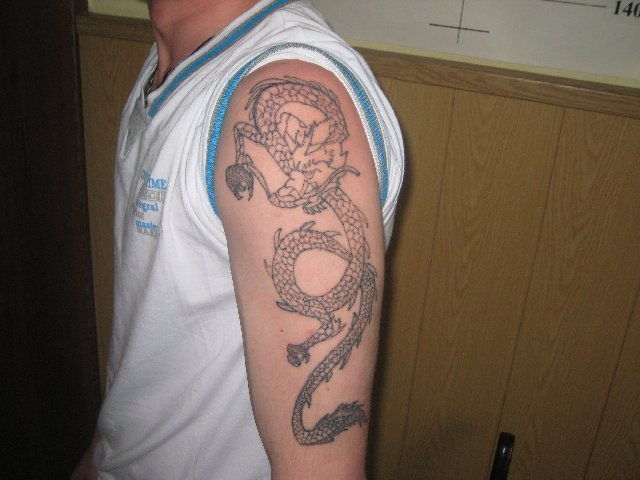tatu6_drakon: (203, 72, 428, 455)
